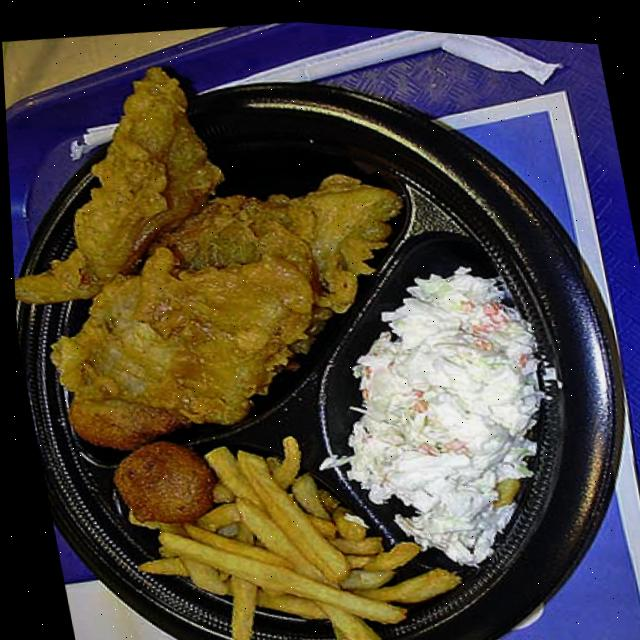炸货点心: (1, 21, 456, 498)
熟制海鲜: (1, 21, 456, 498)
